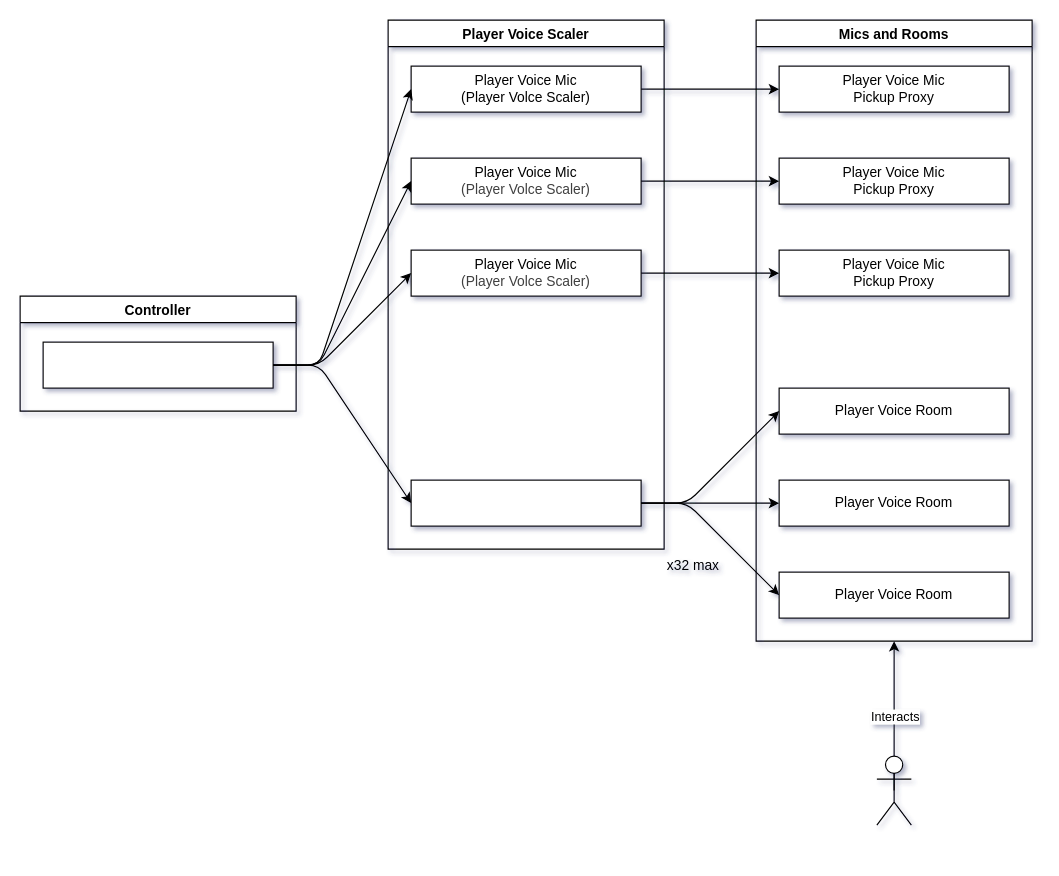
The diagram is 1059 pixels wide and 876 high, and some of its shapes have lost their labels. Here are the shapes that lost their labels. From the top down, the centre of each, then its label:
(x=157, y=364): Player Voice Controller
(x=525, y=502): Player Voice Room Controller (Player Volce Scaler )
(x=893, y=790): User
